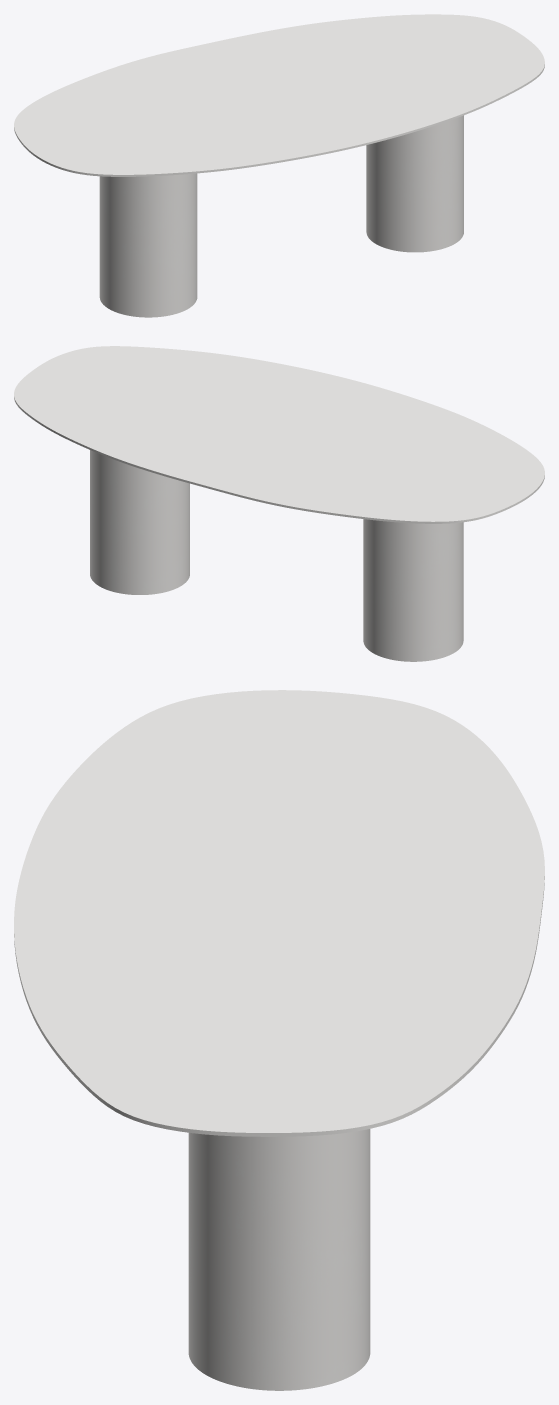
Rendered from purewhite_danish_facet_stream.glb.
3 renders of one model, top to bottom at view 1: azimuth 30°, elevation 25°; view 2: azimuth 150°, elevation 25°; view 3: azimuth 270°, elevation 25°, orthographic. The views are drawn at different scales.
Visible parts, largest first — view 1: facet_danish, stream; view 2: facet_danish, stream; view 3: facet_danish, stream.
Boxes of the visible parts, bbox=[...] form: facet_danish: bbox=[14, 14, 544, 176]; stream: bbox=[99, 115, 463, 317]; facet_danish: bbox=[14, 346, 544, 523]; stream: bbox=[90, 450, 463, 661]; facet_danish: bbox=[14, 690, 544, 1136]; stream: bbox=[188, 1129, 370, 1390].
Bounding box in the file's own units: 7.5 × 2.5 × 3.8.
Materials: 1 (1 with a texture image).
